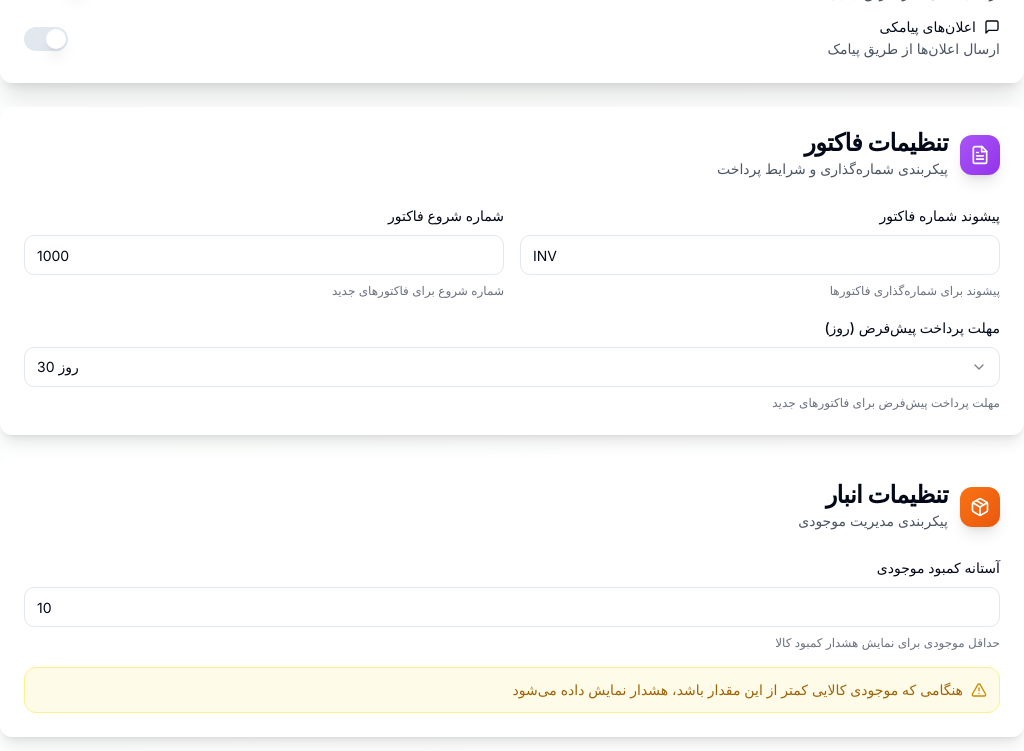
Test: SystemPreferences › should handle payment terms selection
The width and height of the screenshot is (1024, 751).
(page scrolled)
Check: the text "30 روز" is shown, box [37,357,79,377]
// Click on payment terms select
What coordinates should you click on to do the following:
click the dropdown
I would click on:
 (48, 366)
Its box is [24,347,1000,387].
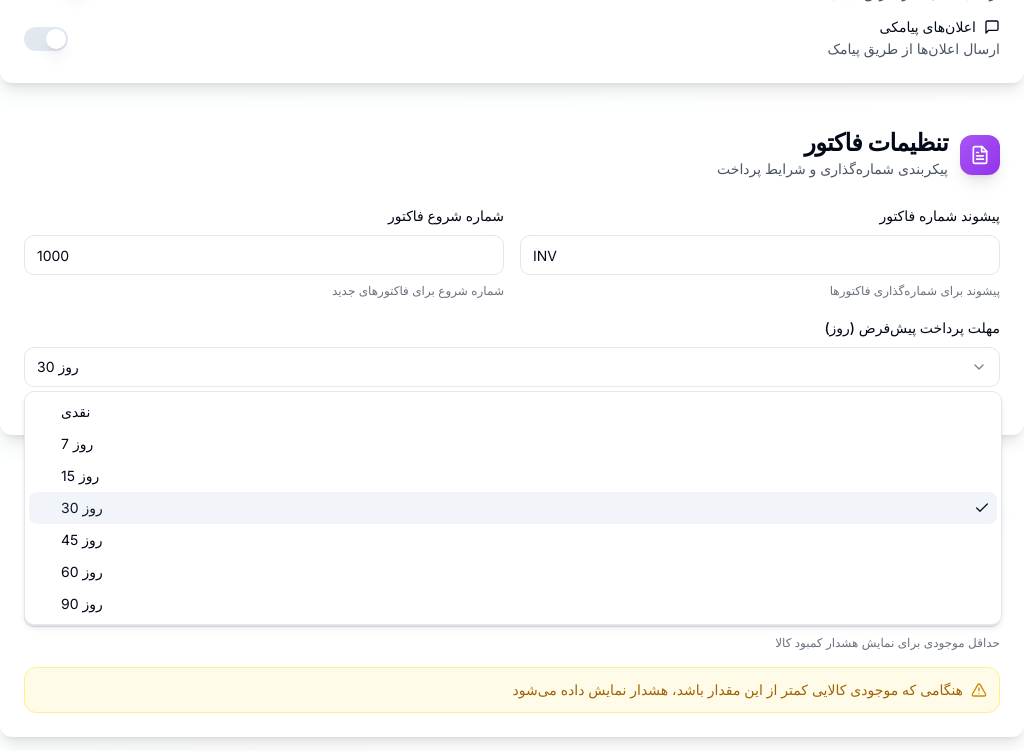
// Select different payment terms
What coordinates should you click on to do the following:
click the option "15 روز"
I would click on:
 (80, 476)
Its box is [61,467,99,484].
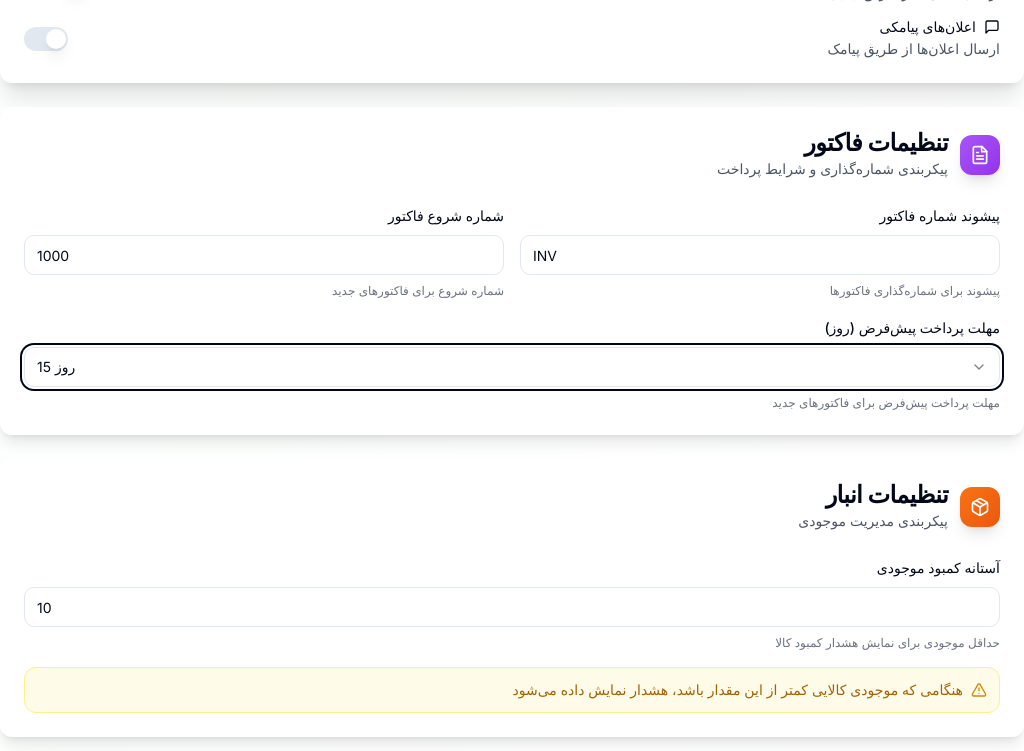
Check: the text "15 روز" is shown, box [37,357,75,377]
